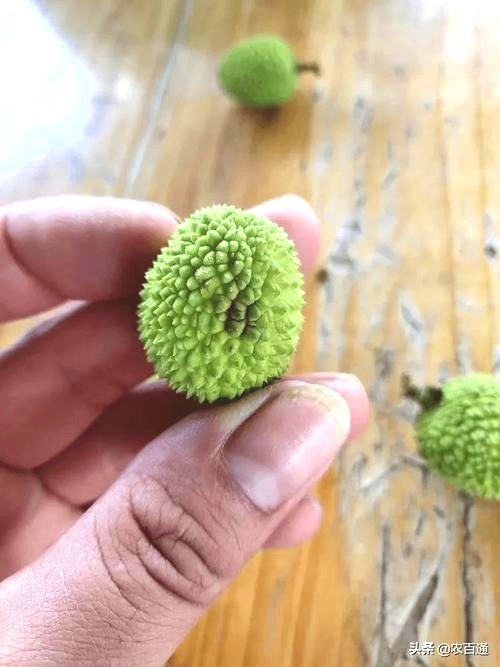Anthracnose: (192, 290, 278, 357)
